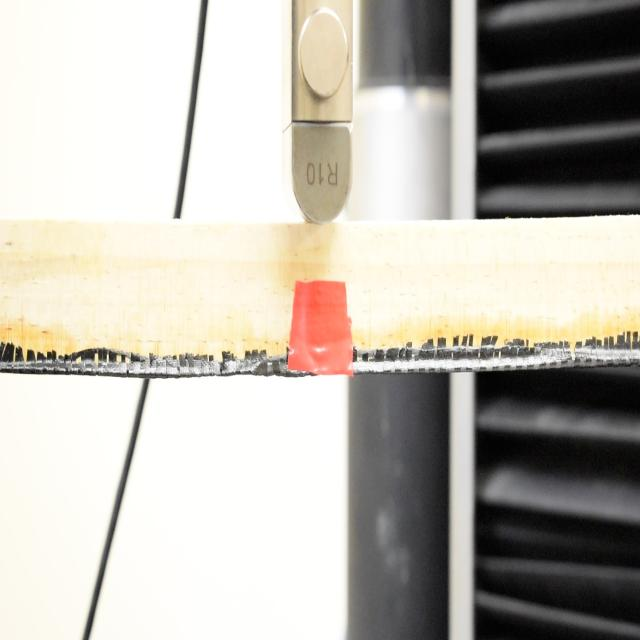wood: (0, 222, 639, 374)
